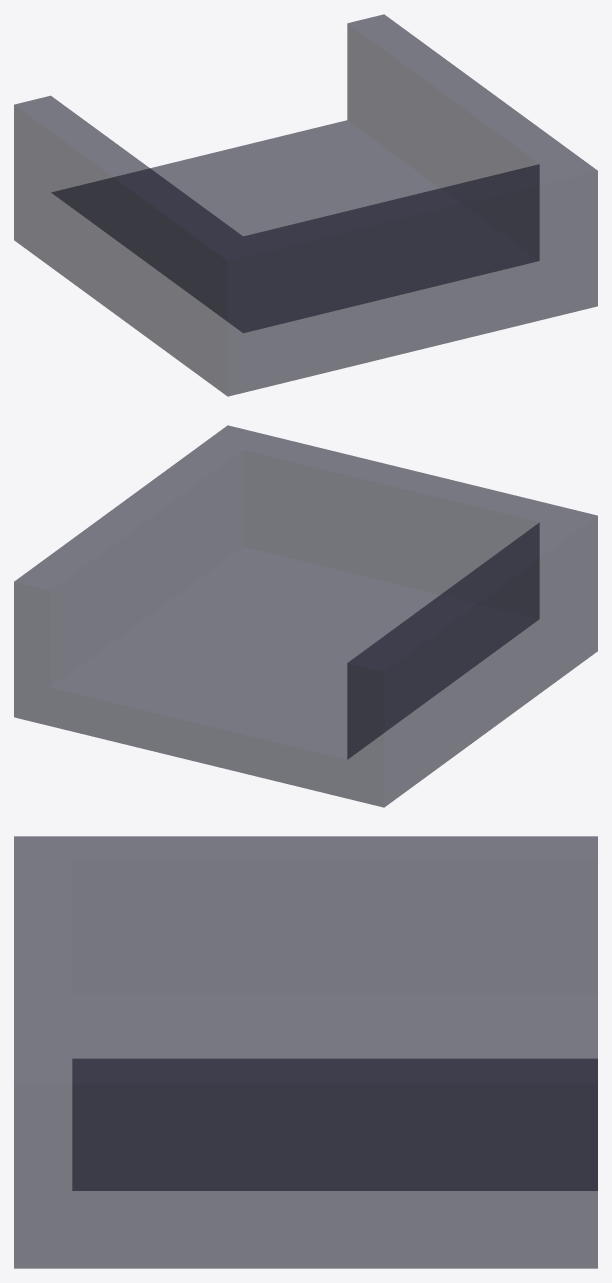
File: GlassRoof_3Edges_Small.glb
3 views of the same model, one above another, from view 1: azimuth 30°, elevation 25°; view 2: azimuth 150°, elevation 25°; view 3: azimuth 270°, elevation 25° (orthographic). The views are drawn at different scales.
Parts seen in each view (by area): view 1: roof_flat_3Edges_small_glass; view 2: roof_flat_3Edges_small_glass; view 3: roof_flat_3Edges_small_glass.
Part boxes in pixels (left/top/right/bottom): roof_flat_3Edges_small_glass: left=14, top=14, right=597, bottom=396; roof_flat_3Edges_small_glass: left=14, top=425, right=597, bottom=807; roof_flat_3Edges_small_glass: left=14, top=836, right=597, bottom=1268.
Size of what is drawn, in the model's own units: 2 by 0.7 by 2.
Materials: 1 (1 with a texture image).
